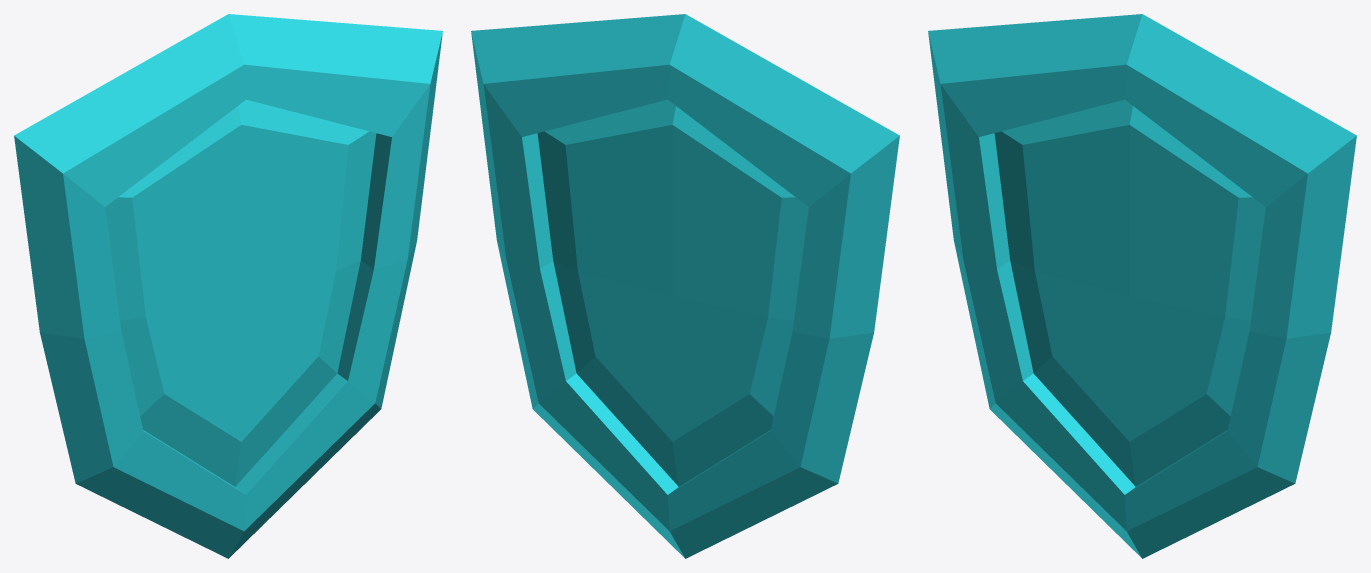
The model's file is DwarfShield_FBX.fbx.
3 renders of one model, left to right at view 1: azimuth 30°, elevation 25°; view 2: azimuth 150°, elevation 25°; view 3: azimuth 330°, elevation 25°, orthographic.
Visible parts, largest first — view 1: Cube; view 2: Cube; view 3: Cube.
Part boxes in pixels (bbox=[...]): Cube: bbox=[14, 14, 442, 558]; Cube: bbox=[471, 14, 899, 558]; Cube: bbox=[928, 14, 1356, 558].
Size of the model in its own units: 81.37 by 98.8 by 13.21.
